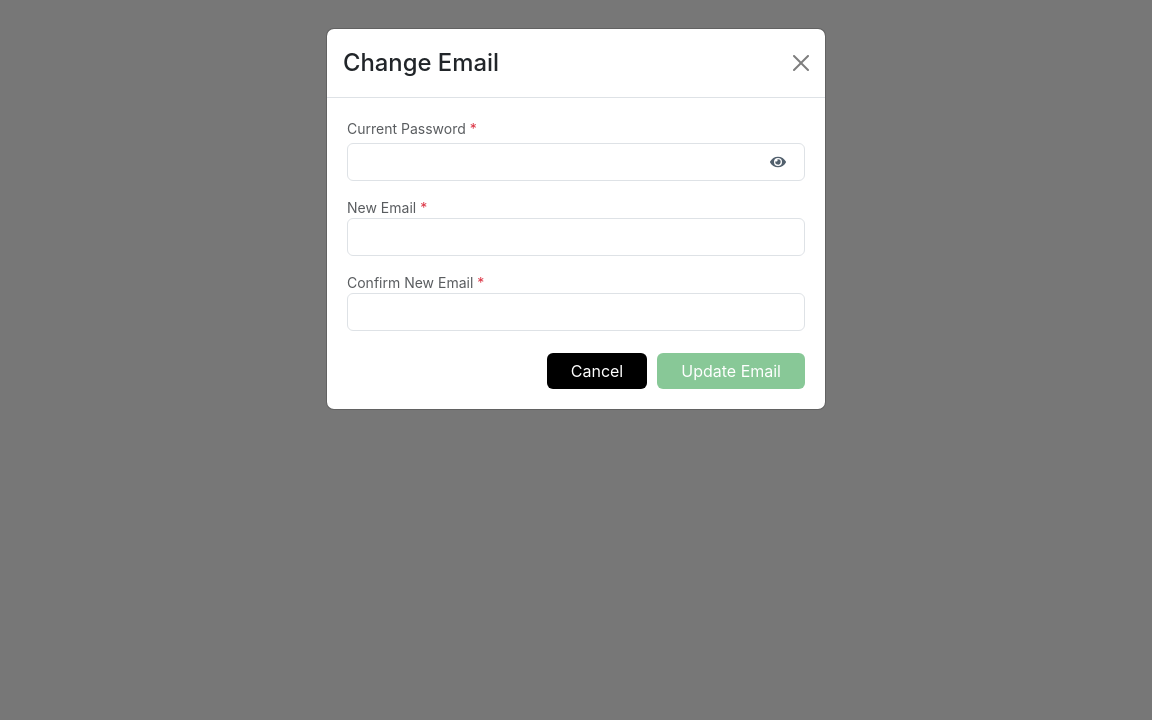
Test: ChangeEmailModal › validates account fields and toggles current password visibility
The width and height of the screenshot is (1152, 720).
Click the button named "Show current password": (778,162) [763,147,793,177]
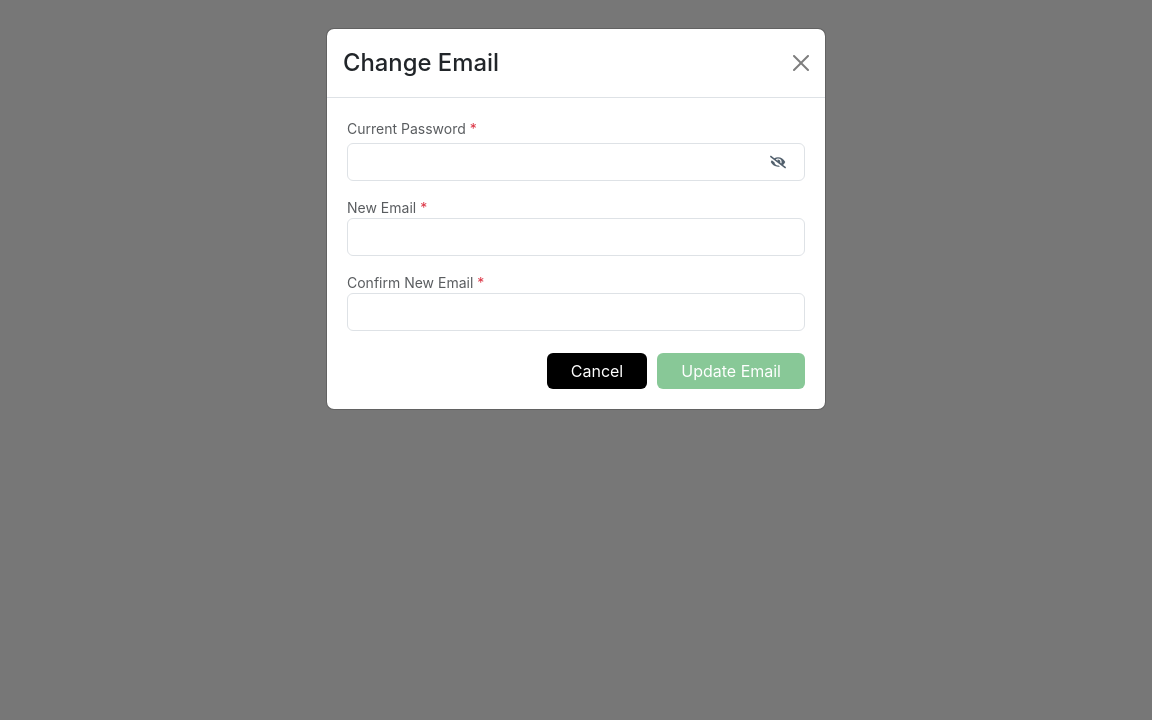
In the field labelled "Current Password *": (576,162) [347,143,805,181], type "Strong@123"
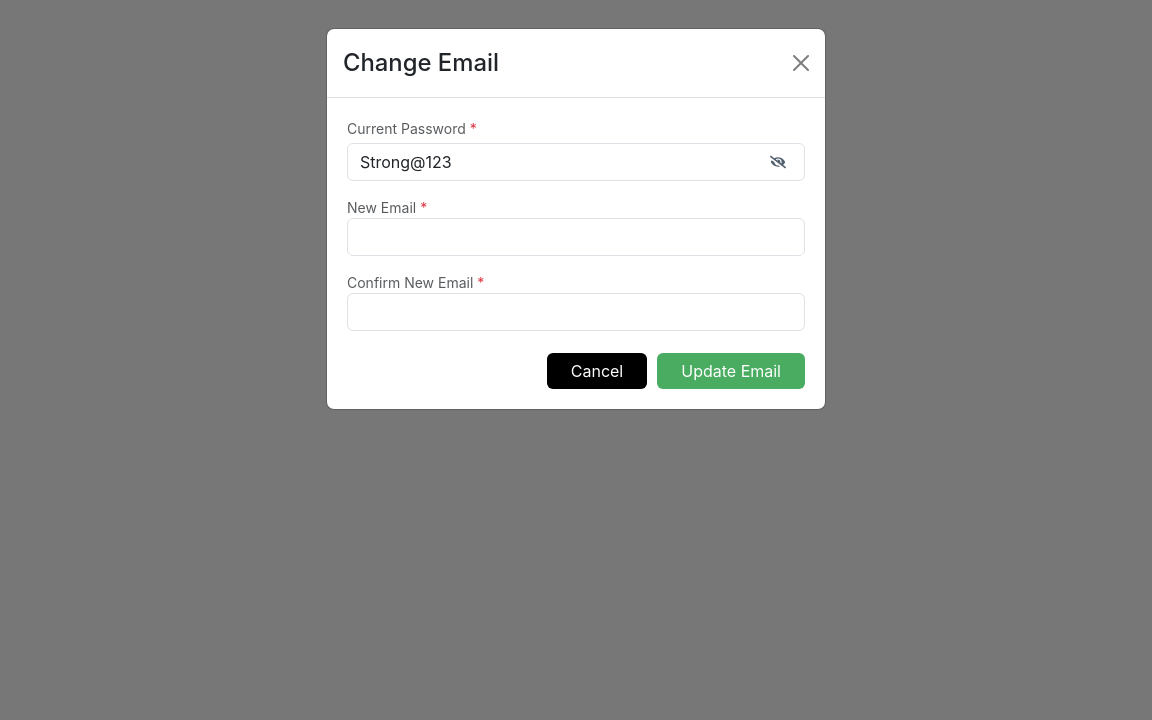
In the field labelled "New Email *": (576,237) [347,218,805,256], type "OWNER@EXAMPLE.COM"
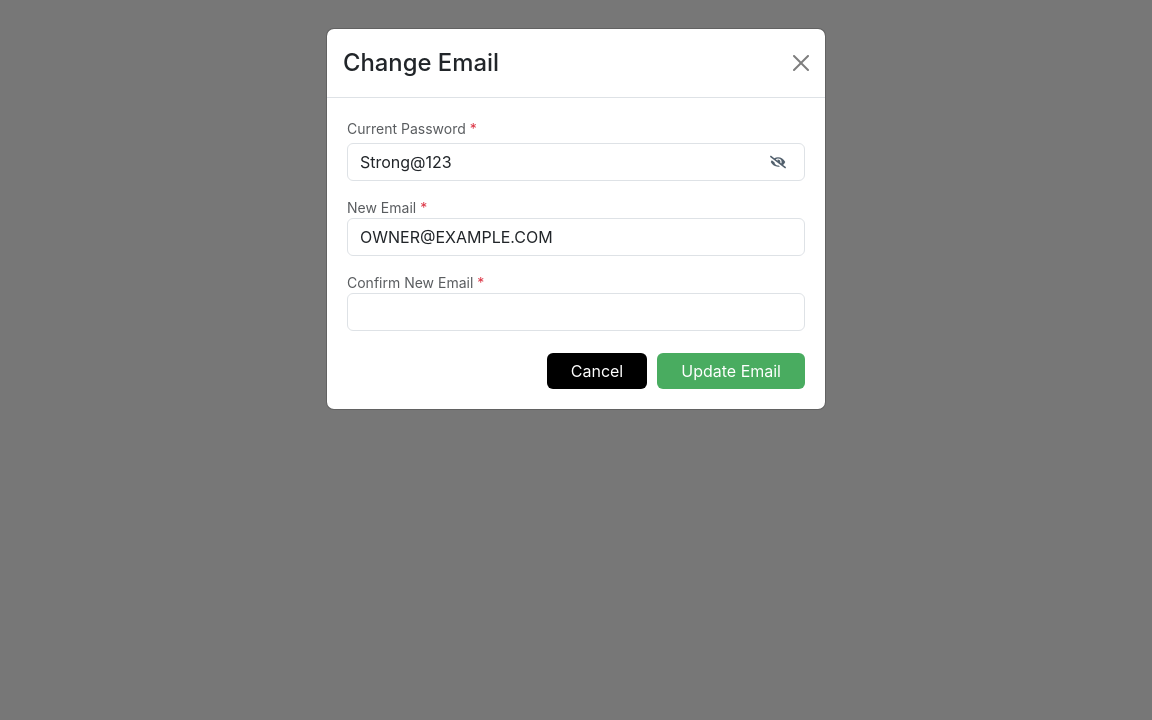
In the field labelled "Confirm New Email *": (576,312) [347,293,805,331], type "owner@example.com"
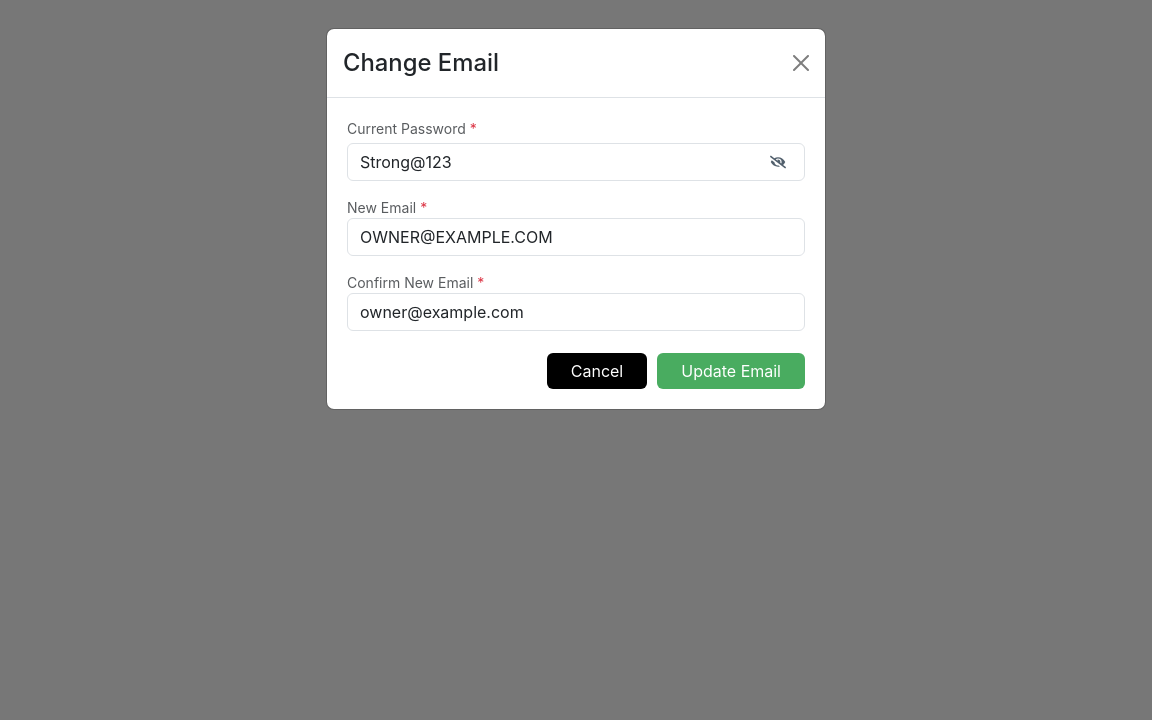
Leave the field labelled "New Email *", box [347,218,805,256]
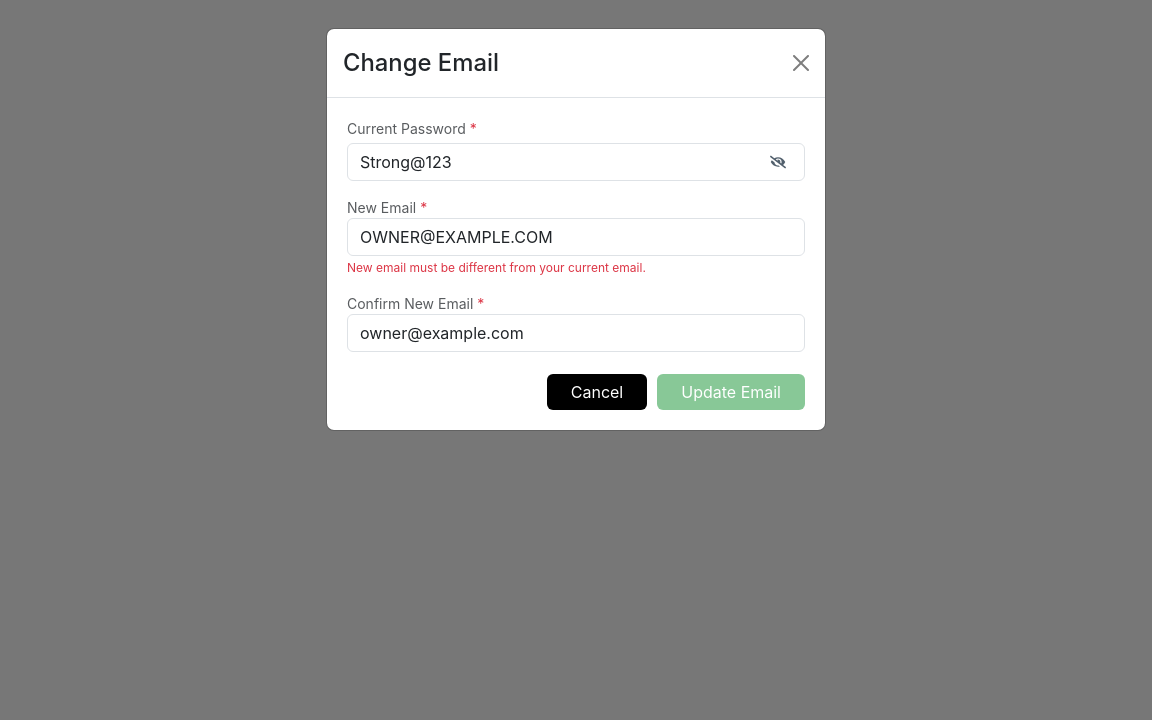
Check: the text "New email must be different from your current email." is shown, box [347,260,646,275]
Check: the button "Update Email" is disabled, box [657,374,805,410]
